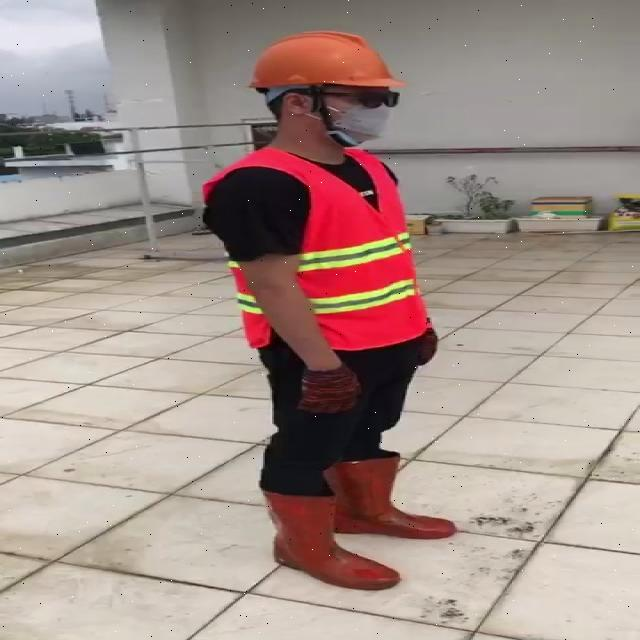Hard_hat: (243, 26, 413, 110)
Vest: (290, 143, 420, 356)
